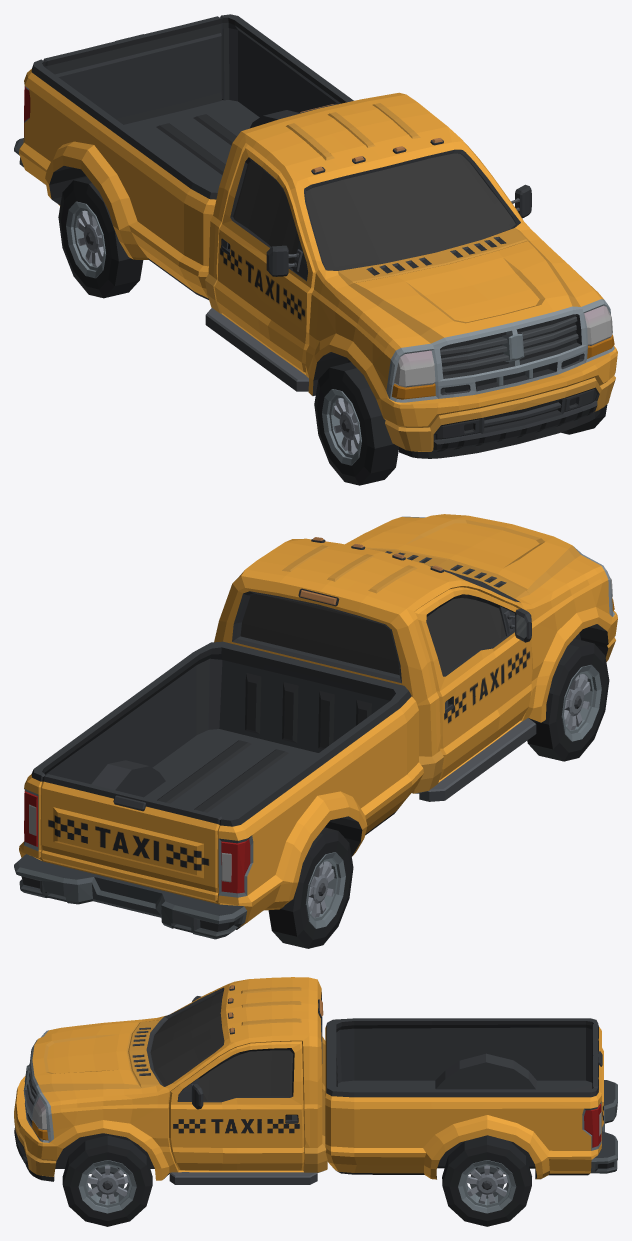
File: SM_Veh_Pickup_01.glb
3 views of the same model, one above another, from view 1: azimuth 30°, elevation 25°; view 2: azimuth 150°, elevation 25°; view 3: azimuth 270°, elevation 25° (orthographic). The views are drawn at different scales.
Parts seen in each view (by area): view 1: SM_Veh_Pickup_01, SM_Veh_Pickup_01_Glass, SM_Veh_Pickup_01_Door_B, SM_Veh_Pickup_01_Door_R, SM_Veh_Pickup_01_Wheel_FR, SM_Veh_Pickup_01_Wheel_RR, SM_Veh_Pickup_01_Door_R_Glass; view 2: SM_Veh_Pickup_01, SM_Veh_Pickup_01_Door_B, SM_Veh_Pickup_01_Door_R, SM_Veh_Pickup_01_Glass, SM_Veh_Pickup_01_Wheel_FR, SM_Veh_Pickup_01_Wheel_RR, SM_Veh_Pickup_01_Door_R_Glass; view 3: SM_Veh_Pickup_01, SM_Veh_Pickup_01_Door_L, SM_Veh_Pickup_01_Wheel_FL, SM_Veh_Pickup_01_Wheel_RL, SM_Veh_Pickup_01_Glass, SM_Veh_Pickup_01_Door_L_Glass, SM_Veh_Pickup_01_Door_B.
Part boxes in pixels (x1,y1,x2,y2): SM_Veh_Pickup_01: [14, 14, 617, 458]; SM_Veh_Pickup_01_Glass: [306, 153, 515, 270]; SM_Veh_Pickup_01_Door_B: [43, 16, 222, 124]; SM_Veh_Pickup_01_Door_R: [214, 145, 315, 372]; SM_Veh_Pickup_01_Wheel_FR: [314, 362, 398, 485]; SM_Veh_Pickup_01_Wheel_RR: [58, 177, 143, 298]; SM_Veh_Pickup_01_Door_R_Glass: [233, 161, 299, 268]; SM_Veh_Pickup_01: [14, 514, 617, 939]; SM_Veh_Pickup_01_Door_B: [40, 774, 221, 902]; SM_Veh_Pickup_01_Door_R: [415, 587, 531, 779]; SM_Veh_Pickup_01_Glass: [240, 594, 399, 674]; SM_Veh_Pickup_01_Wheel_FR: [527, 638, 609, 761]; SM_Veh_Pickup_01_Wheel_RR: [268, 827, 353, 948]; SM_Veh_Pickup_01_Door_R_Glass: [426, 598, 505, 674]; SM_Veh_Pickup_01: [14, 977, 617, 1184]; SM_Veh_Pickup_01_Door_L: [169, 1041, 304, 1170]; SM_Veh_Pickup_01_Wheel_FL: [62, 1135, 152, 1226]; SM_Veh_Pickup_01_Wheel_RL: [442, 1135, 531, 1226]; SM_Veh_Pickup_01_Glass: [150, 991, 224, 1086]; SM_Veh_Pickup_01_Door_L_Glass: [199, 1050, 293, 1100]; SM_Veh_Pickup_01_Door_B: [592, 1024, 603, 1146].
Bounding box in the file's own units: 2.57 × 2.28 × 6.85.
1 material, 1 textured.
